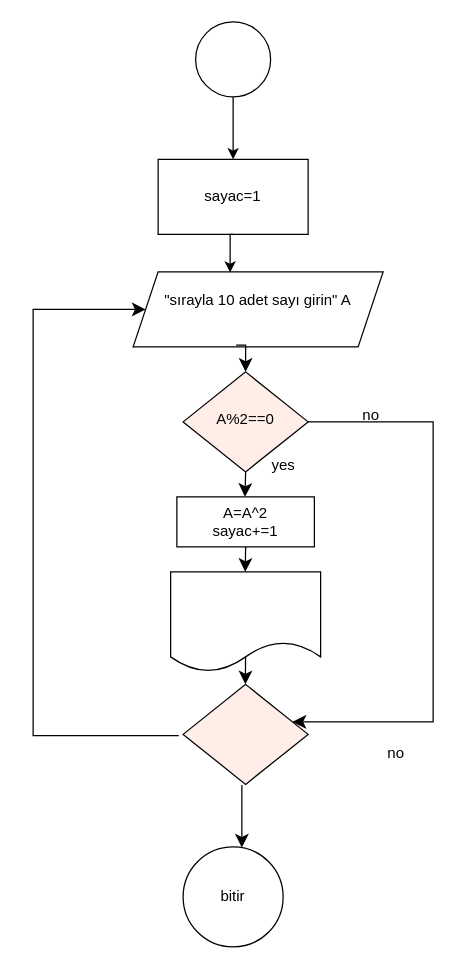
This 468x969 diagram has some shape labels left out. The shapes that lost their labels are listed below. From the top down, each one's centre as x and y in pixels, then its label:
At (x=232, y=59): "başla".
At (x=245, y=621): "print A".
At (x=245, y=733): "sayac<11".
